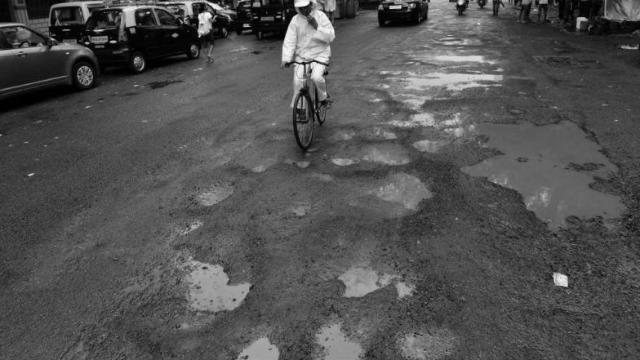Pothole: (460, 101, 640, 241), (157, 230, 259, 310), (400, 34, 524, 92), (329, 267, 421, 303), (395, 322, 463, 360), (374, 174, 434, 214), (332, 143, 416, 171), (314, 320, 368, 360), (226, 336, 298, 360), (190, 182, 243, 210), (408, 130, 442, 152)
